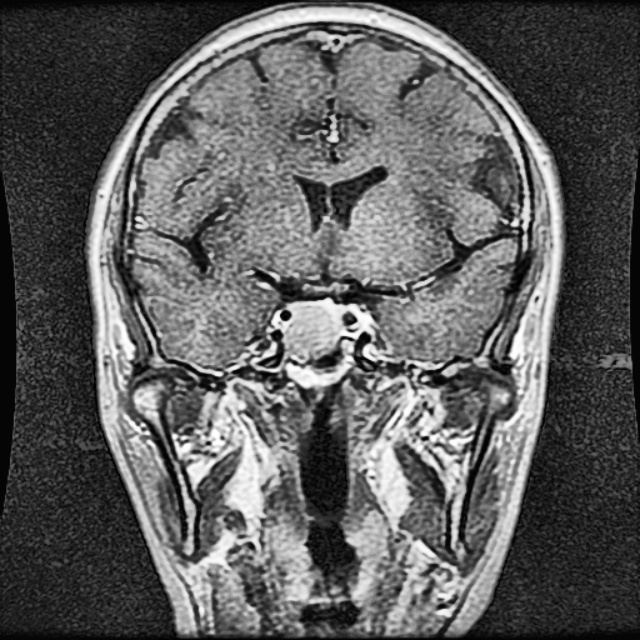Pituitary: (284, 300, 344, 362)
